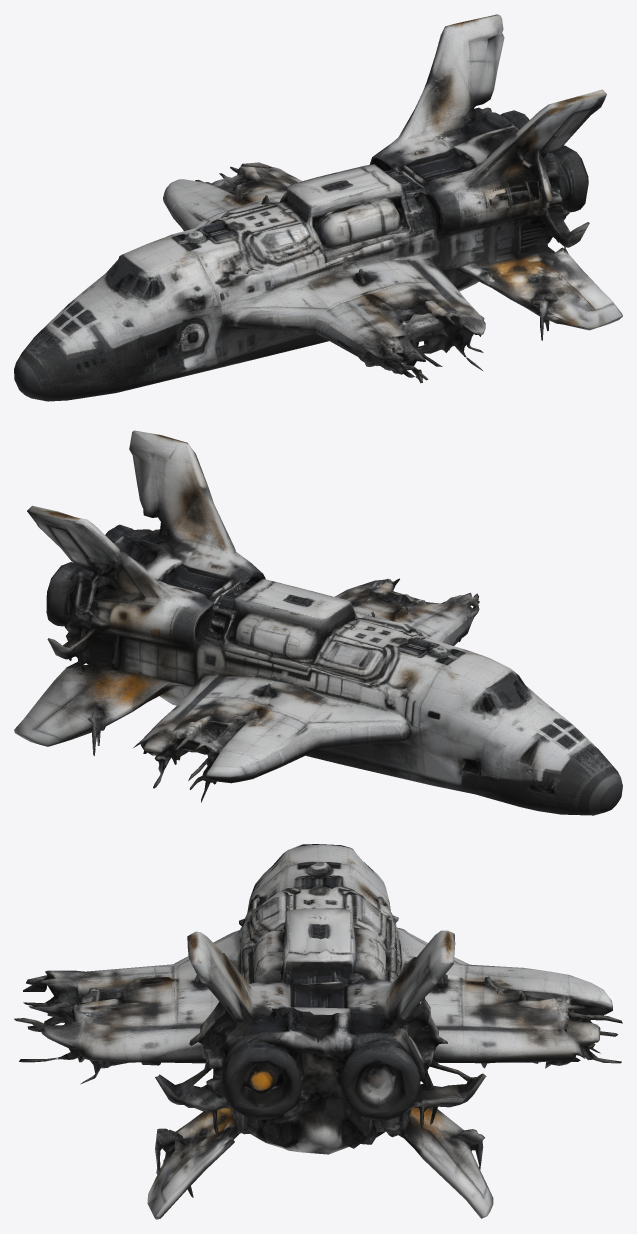
Rendered from constructor.glb.
3 views of the same model, one above another, from view 1: azimuth 30°, elevation 25°; view 2: azimuth 150°, elevation 25°; view 3: azimuth 270°, elevation 25° (orthographic). The views are drawn at different scales.
Size of the model in its own units: 2 by 0.8073 by 1.64.
Materials: 1 (1 with a texture image).
